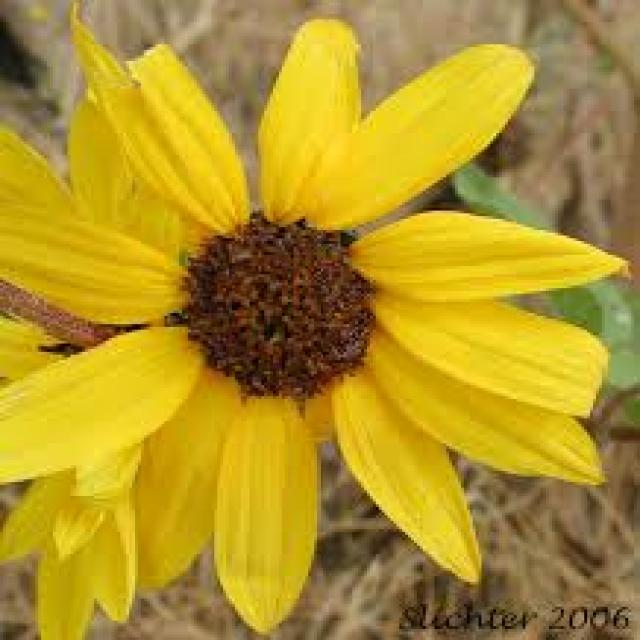sunflower: (0, 0, 628, 634), (0, 27, 214, 637)
